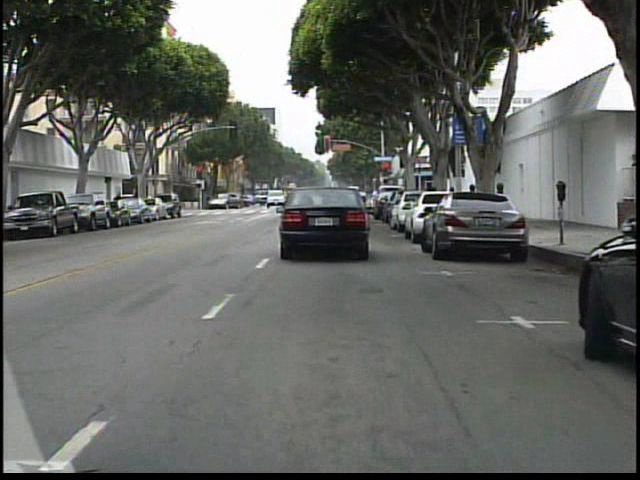person: (112, 190, 127, 219)
